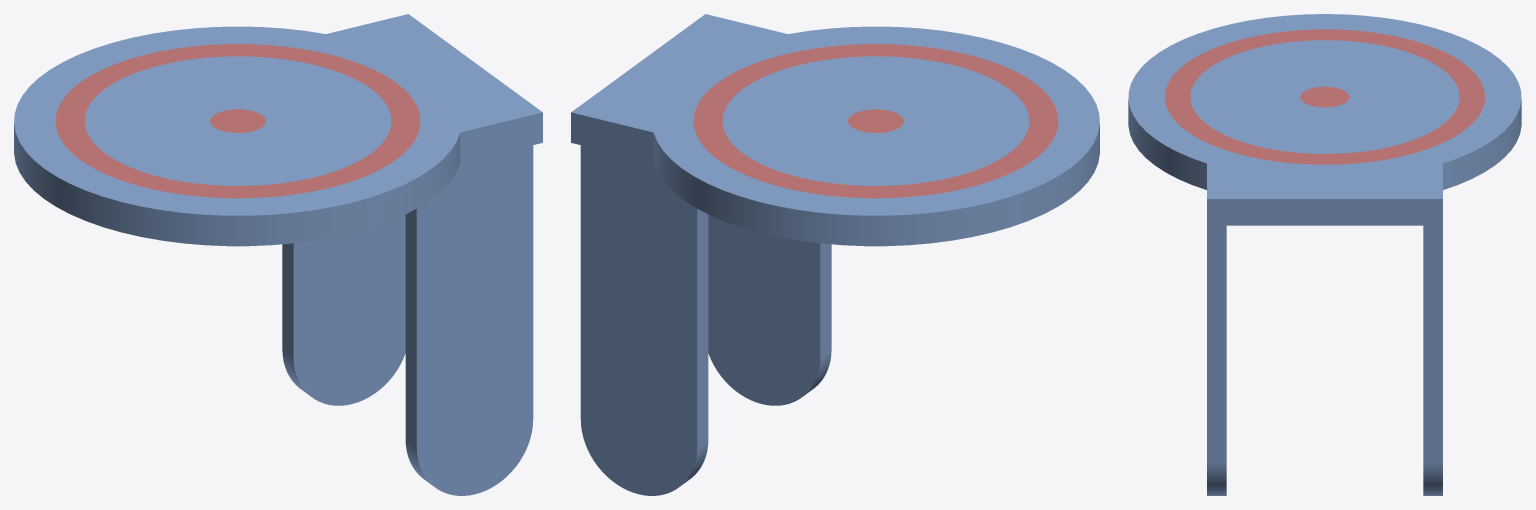
The model's file is step_06.glb.
The picture shows the model from 3 angles, left to right: view 1: azimuth 30°, elevation 25°; view 2: azimuth 150°, elevation 25°; view 3: azimuth 270°, elevation 25°; orthographic projection. The views are drawn at different scales.
Parts seen in each view (by area): view 1: part__fork, removed__fork; view 2: part__fork, removed__fork; view 3: part__fork, removed__fork.
Boxes of the visible parts, left/top/right/bottom form: part__fork: left=14, top=14, right=542, bottom=495; removed__fork: left=55, top=44, right=420, bottom=198; part__fork: left=571, top=14, right=1099, bottom=495; removed__fork: left=693, top=44, right=1058, bottom=198; part__fork: left=1128, top=14, right=1521, bottom=495; removed__fork: left=1165, top=29, right=1484, bottom=164.
Bounding box in the file's own units: 89 × 72 × 79.97.
